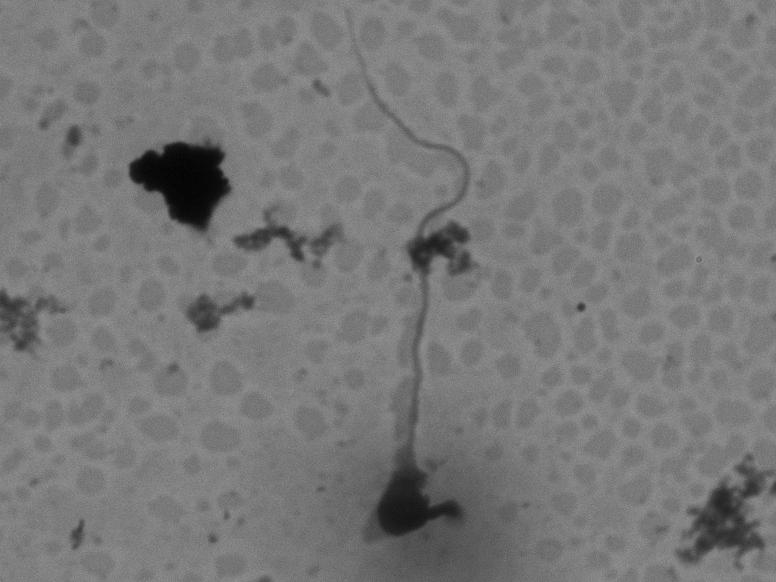Abnormal: (277, 6, 504, 538)
